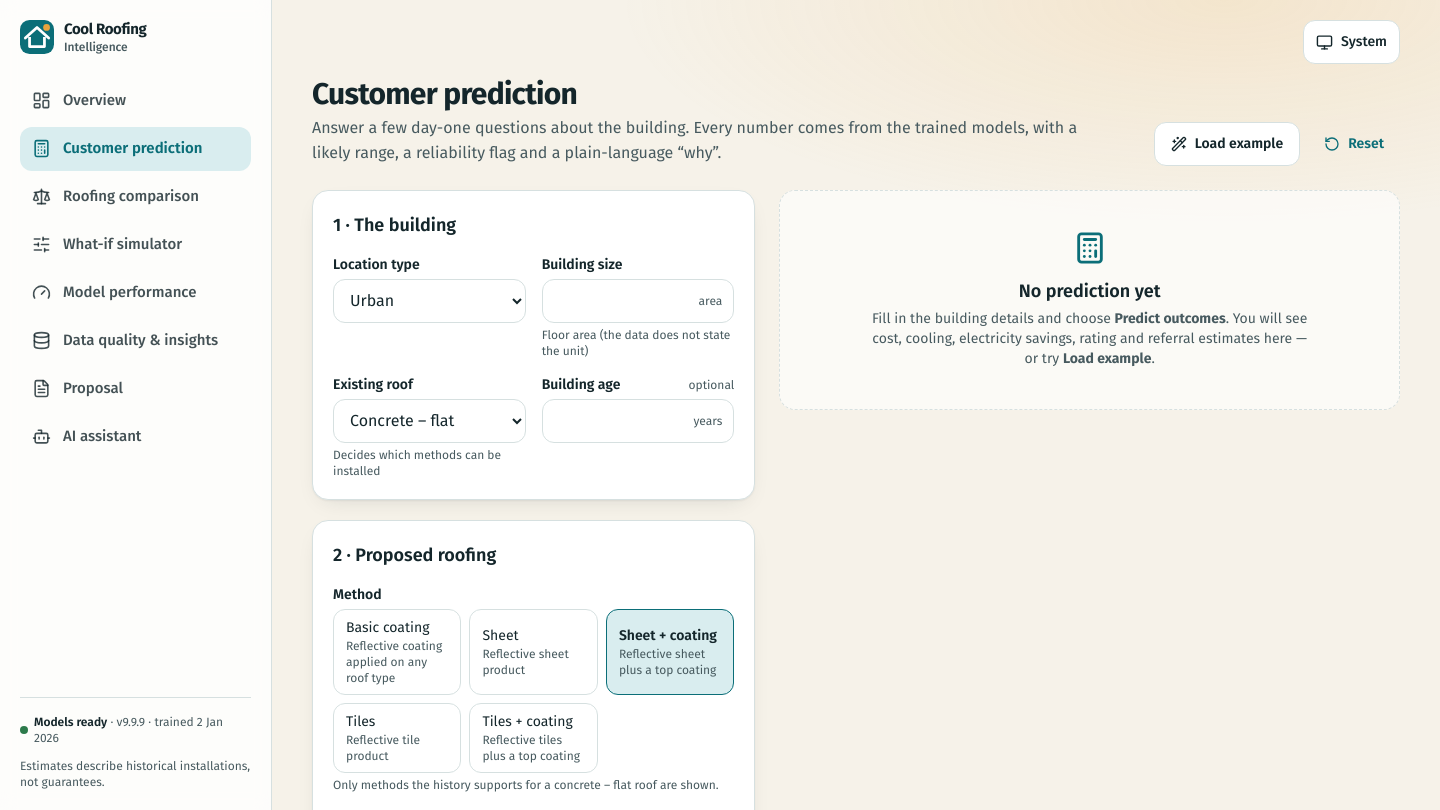
Test case: customer prediction › computes payback only from a tariff the user types (never assumed)
Click the button "Load example" at (1227, 144), box [1154,122,1300,166]
(page scrolled)
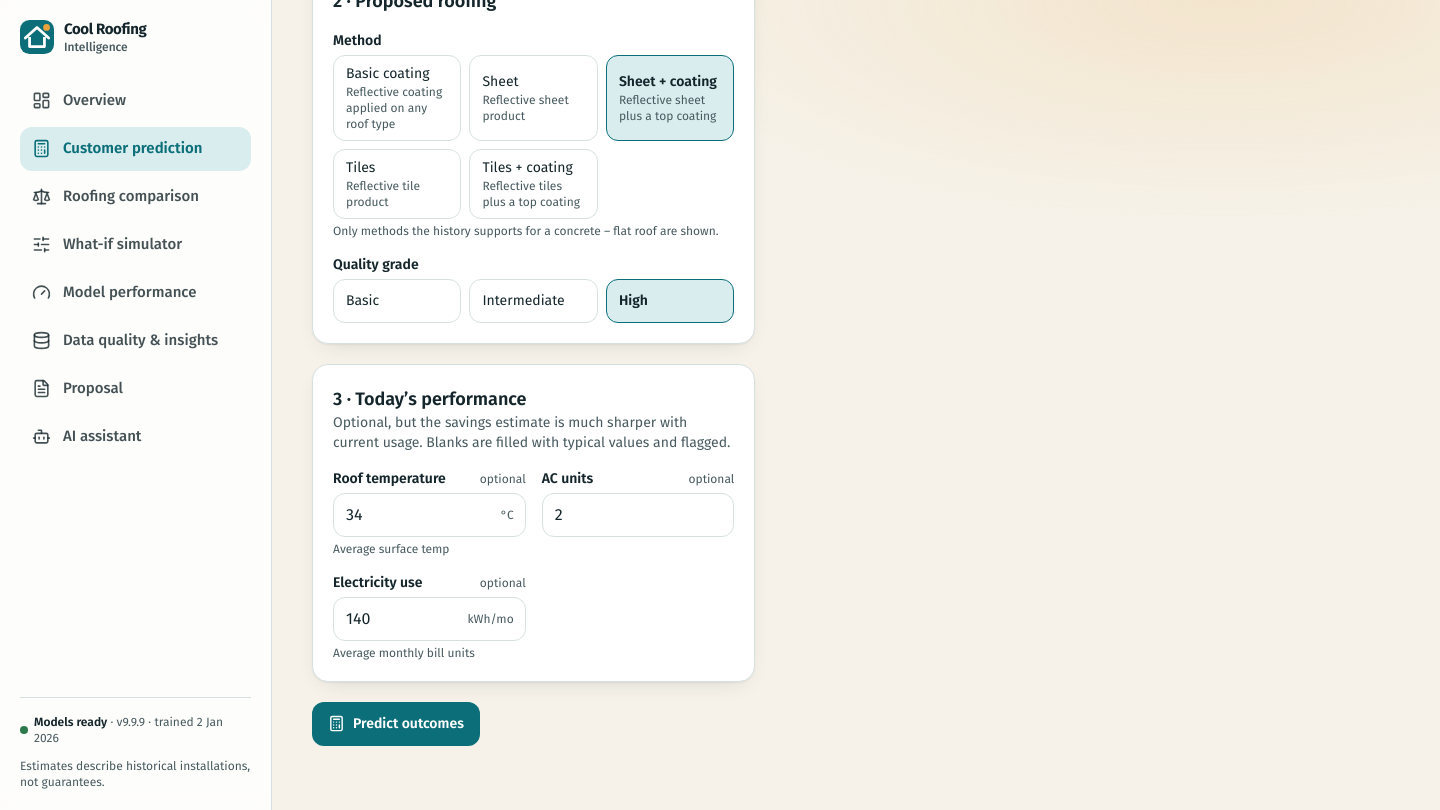
Click the button "Predict outcomes" at (396, 724), box [312,702,480,746]
(page scrolled)
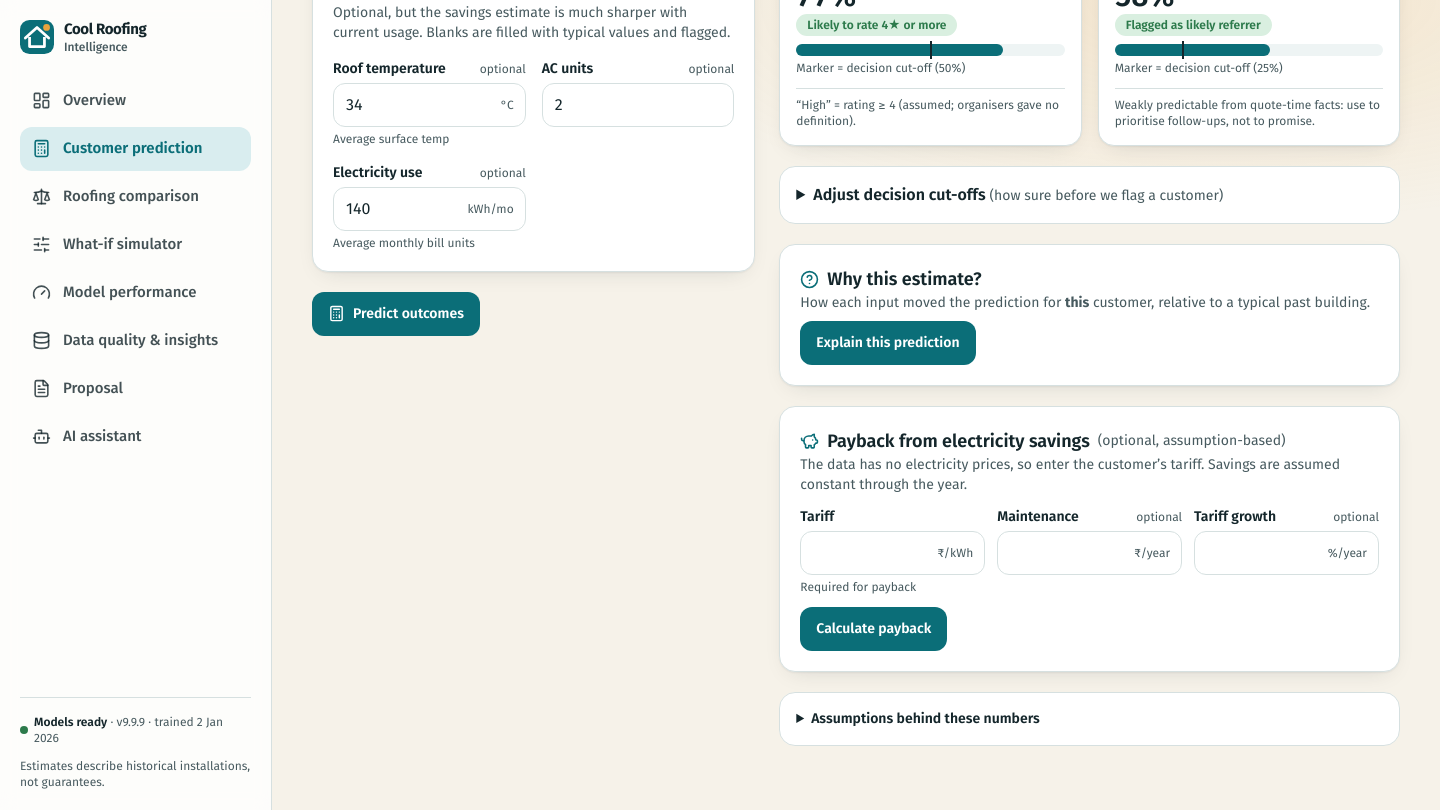
Check: the number field labelled "Tariff" is not empty, box [800,531,985,575]
Click the button "Calculate payback" at (874, 629), box [800,607,947,651]
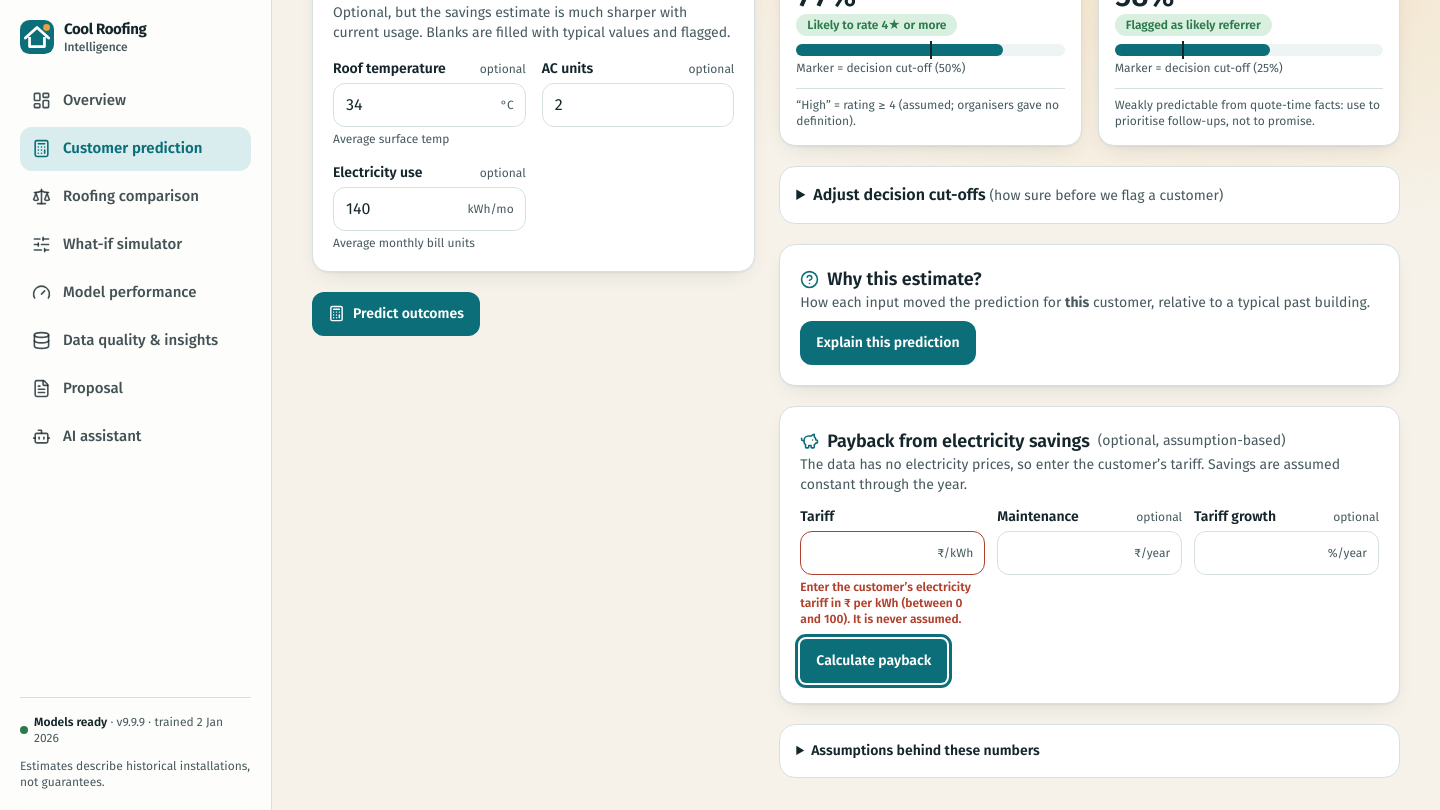
Check: the text "never assumed" is shown, box [800,580,971,626]
Type "8" into the number field labelled "Tariff" at (893, 553), box [800,531,985,575]
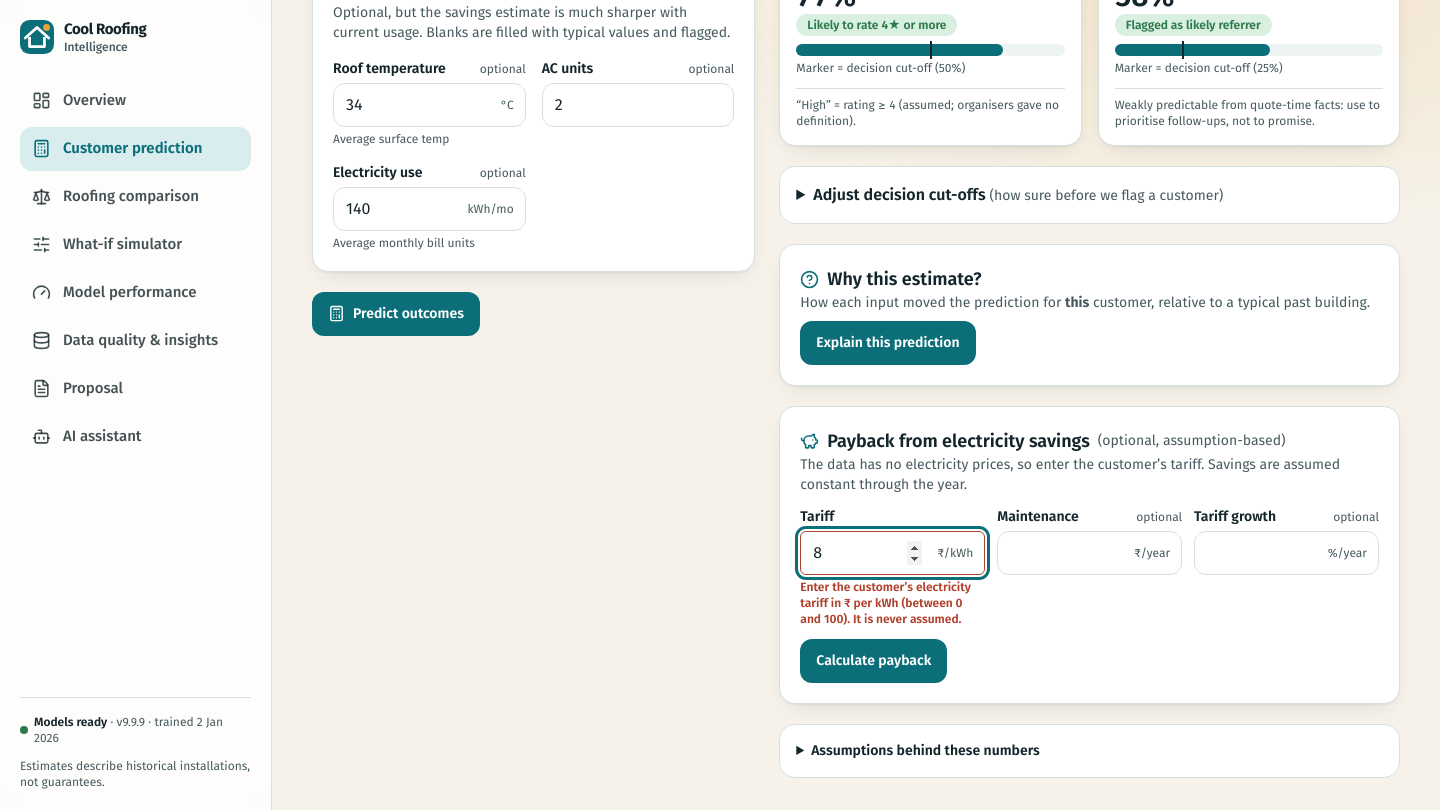
Click the button "Calculate payback" at (874, 661), box [800,639,947,683]
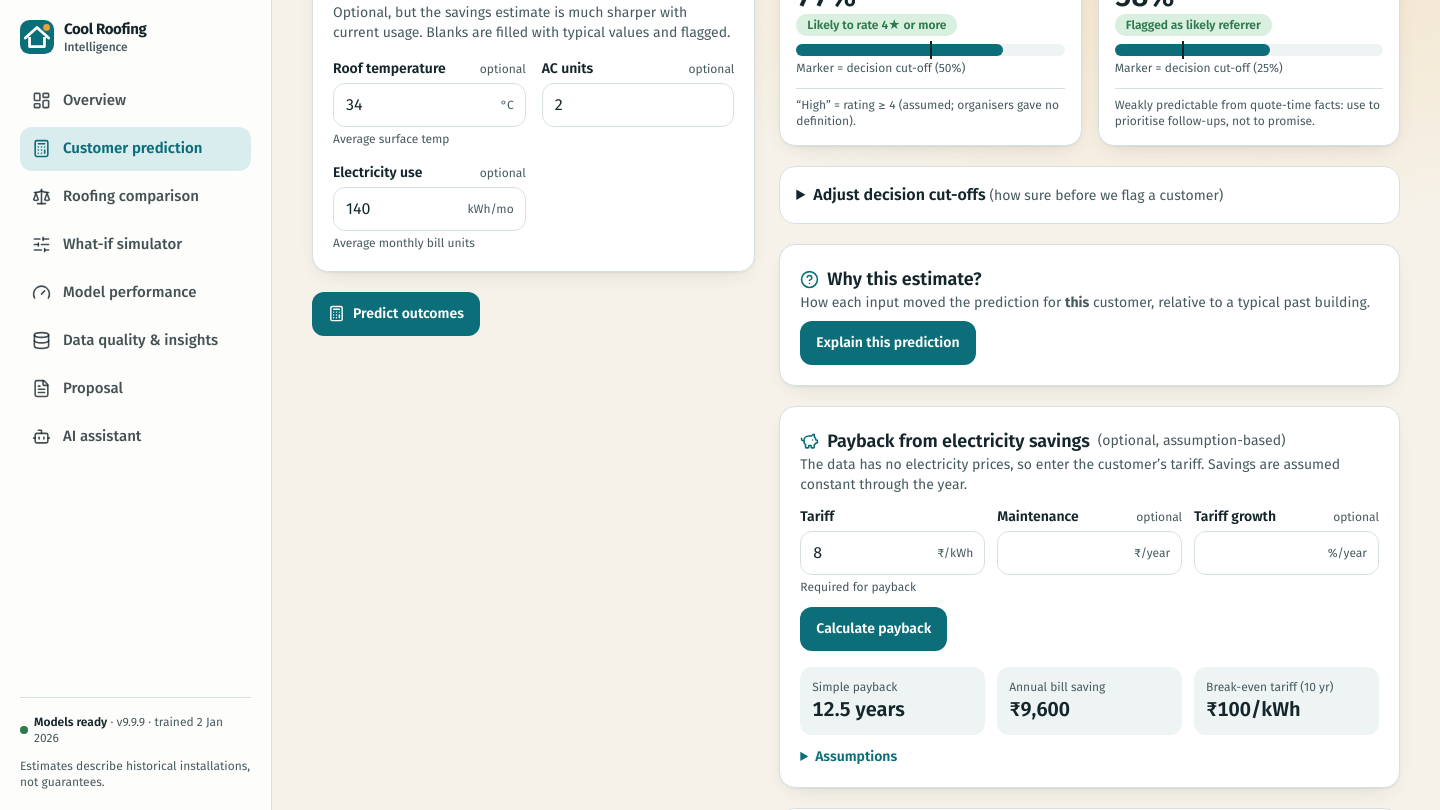
Check: the text with test id "payback-years" reads "12.5 years", box [812,697,905,721]
